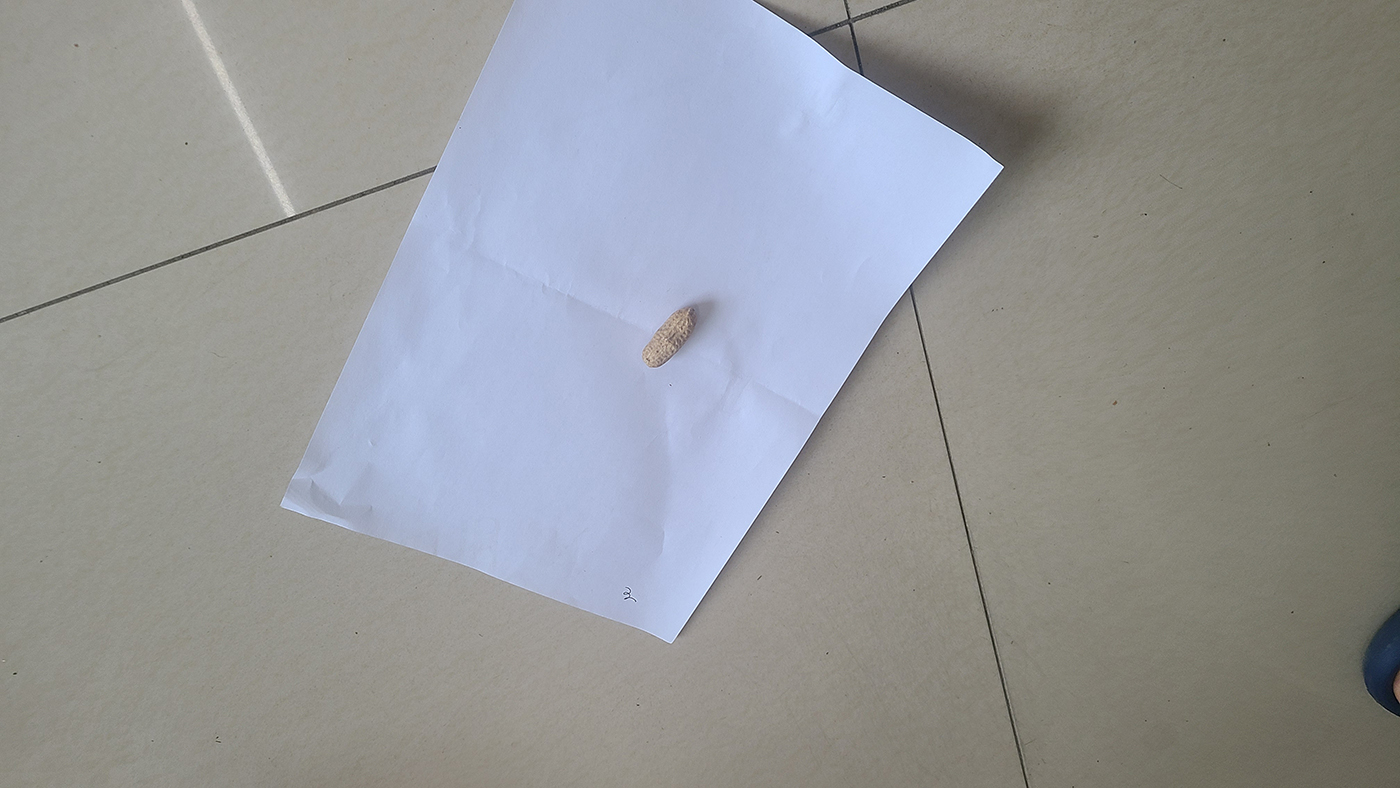h: (640, 303, 700, 370)
